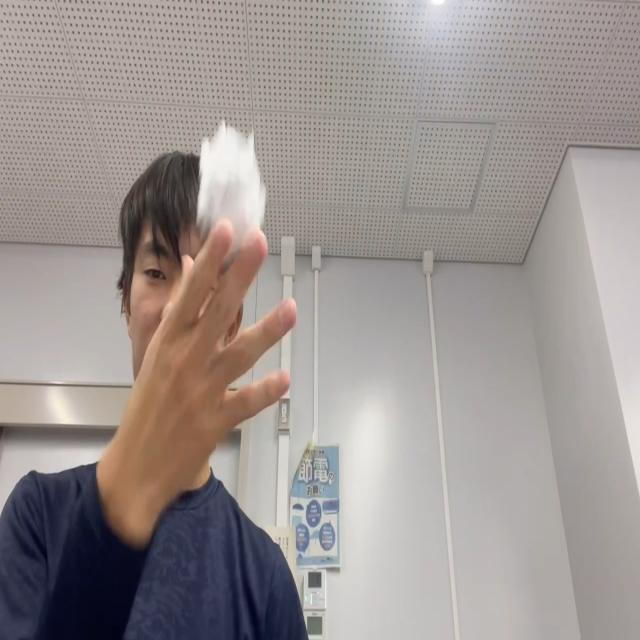paper: (195, 120, 266, 266)
